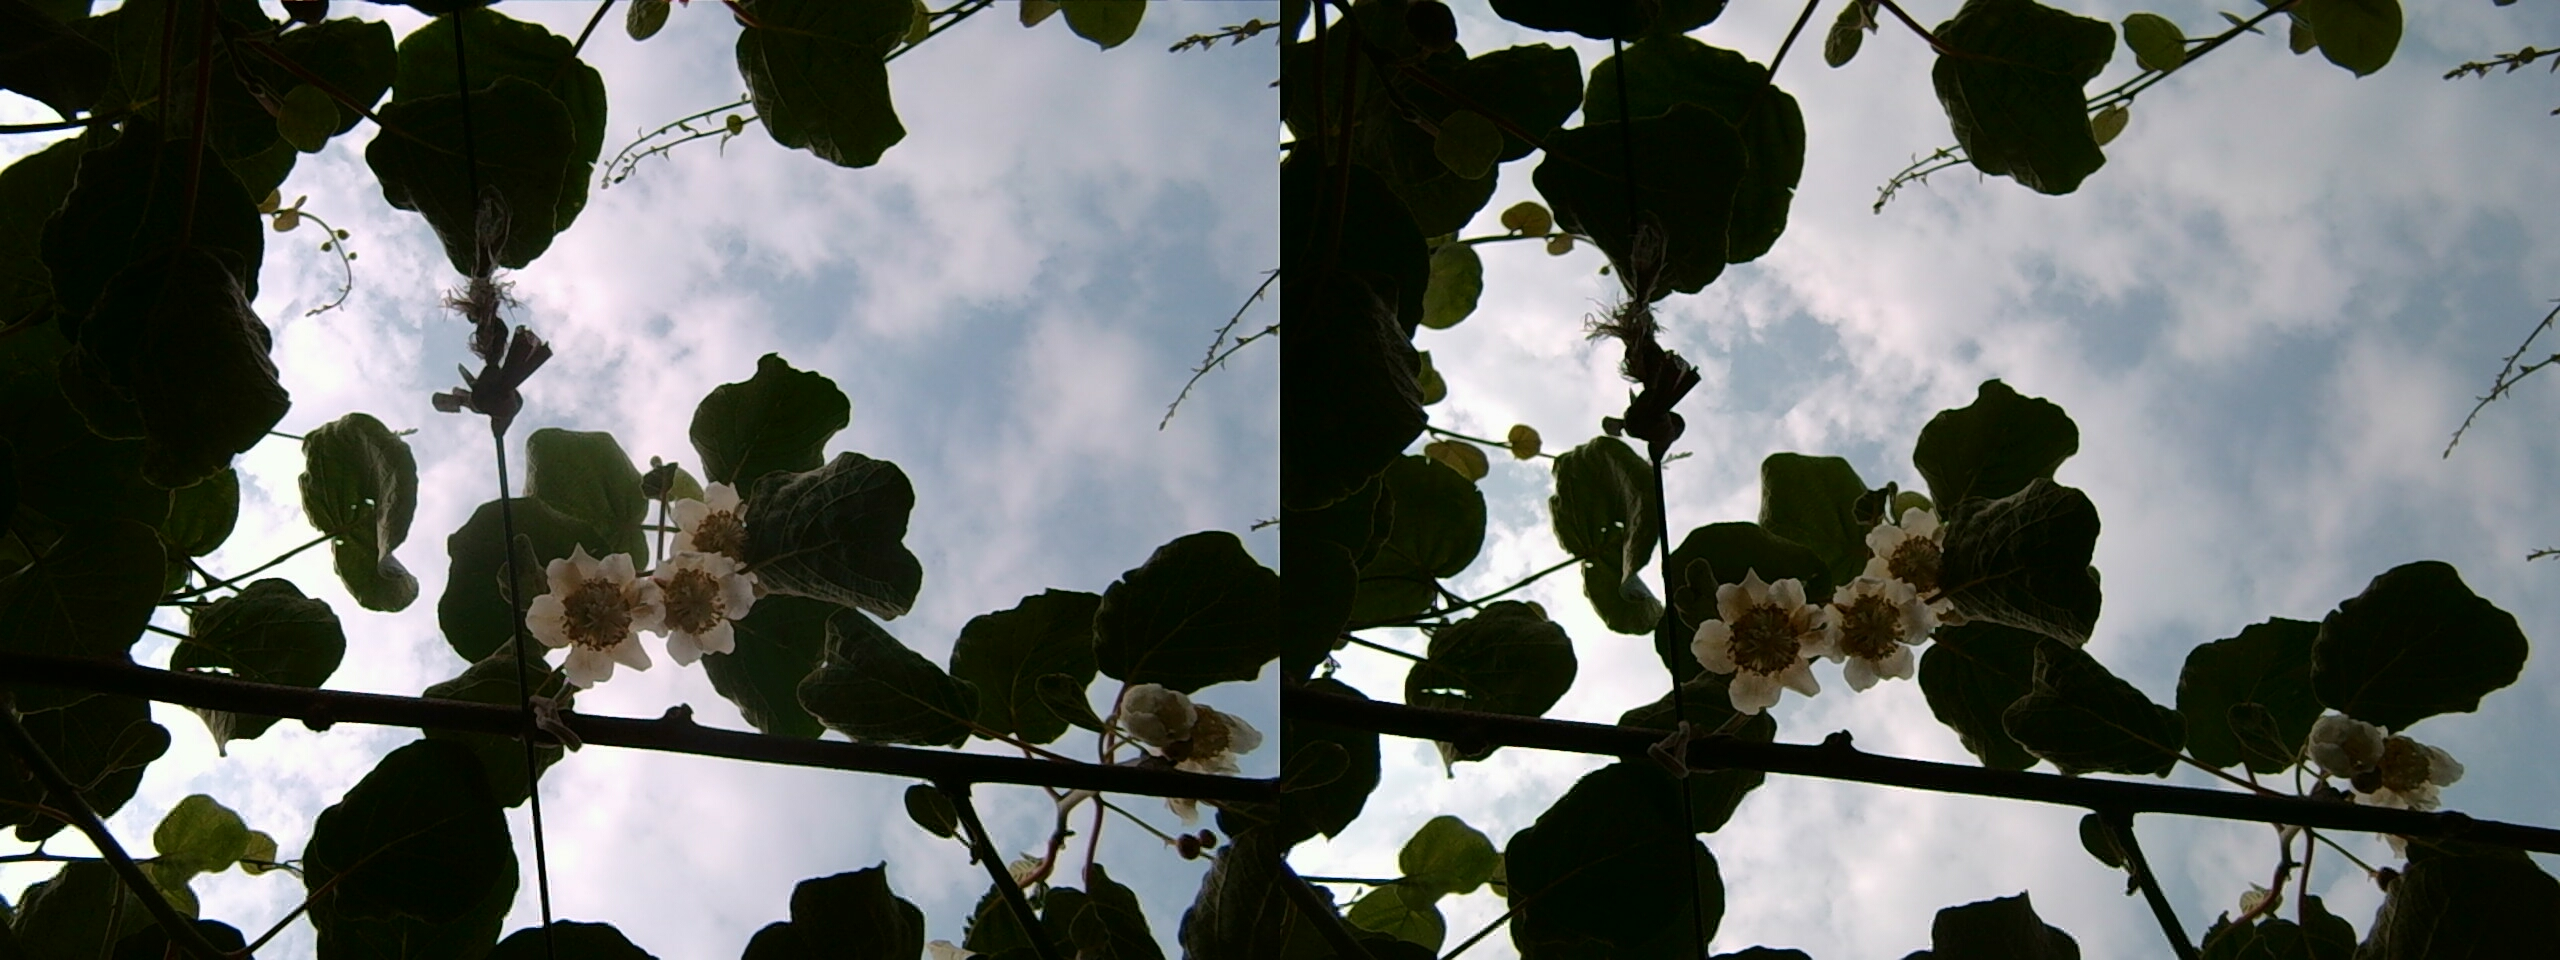flower: (1669, 531, 1923, 704), (518, 532, 722, 674), (1781, 529, 1943, 684), (629, 524, 754, 660)
